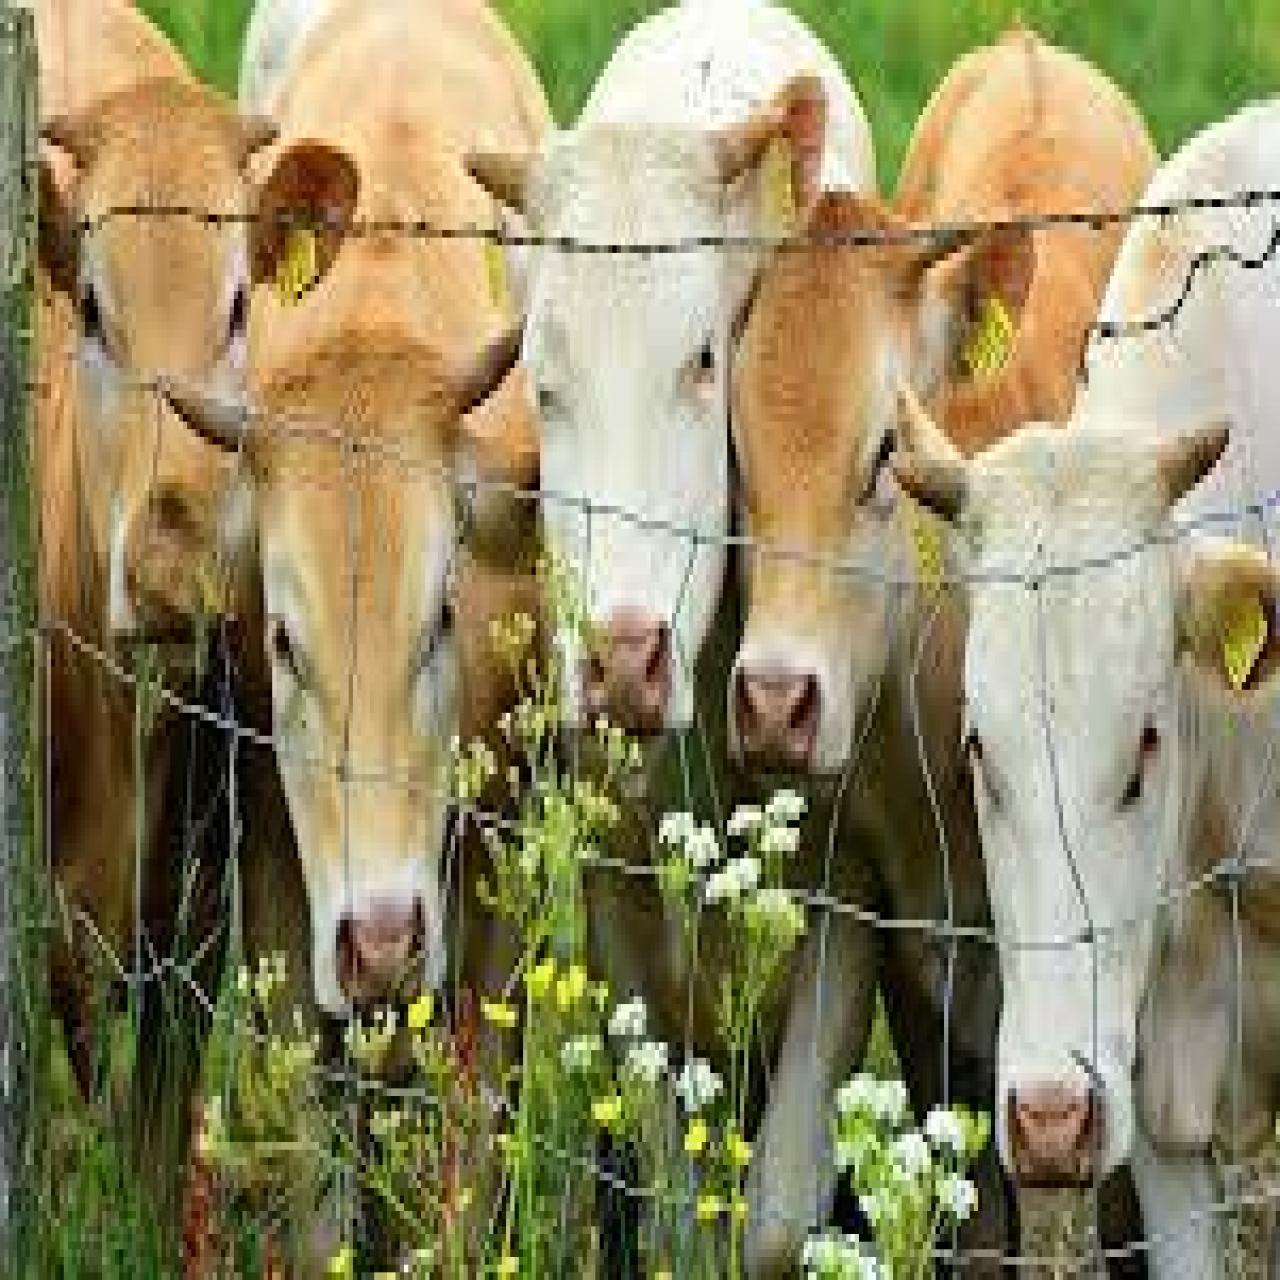cow: (956, 91, 1280, 1280), (129, 329, 533, 1065), (510, 135, 825, 785), (26, 108, 358, 674), (731, 184, 1037, 797)
